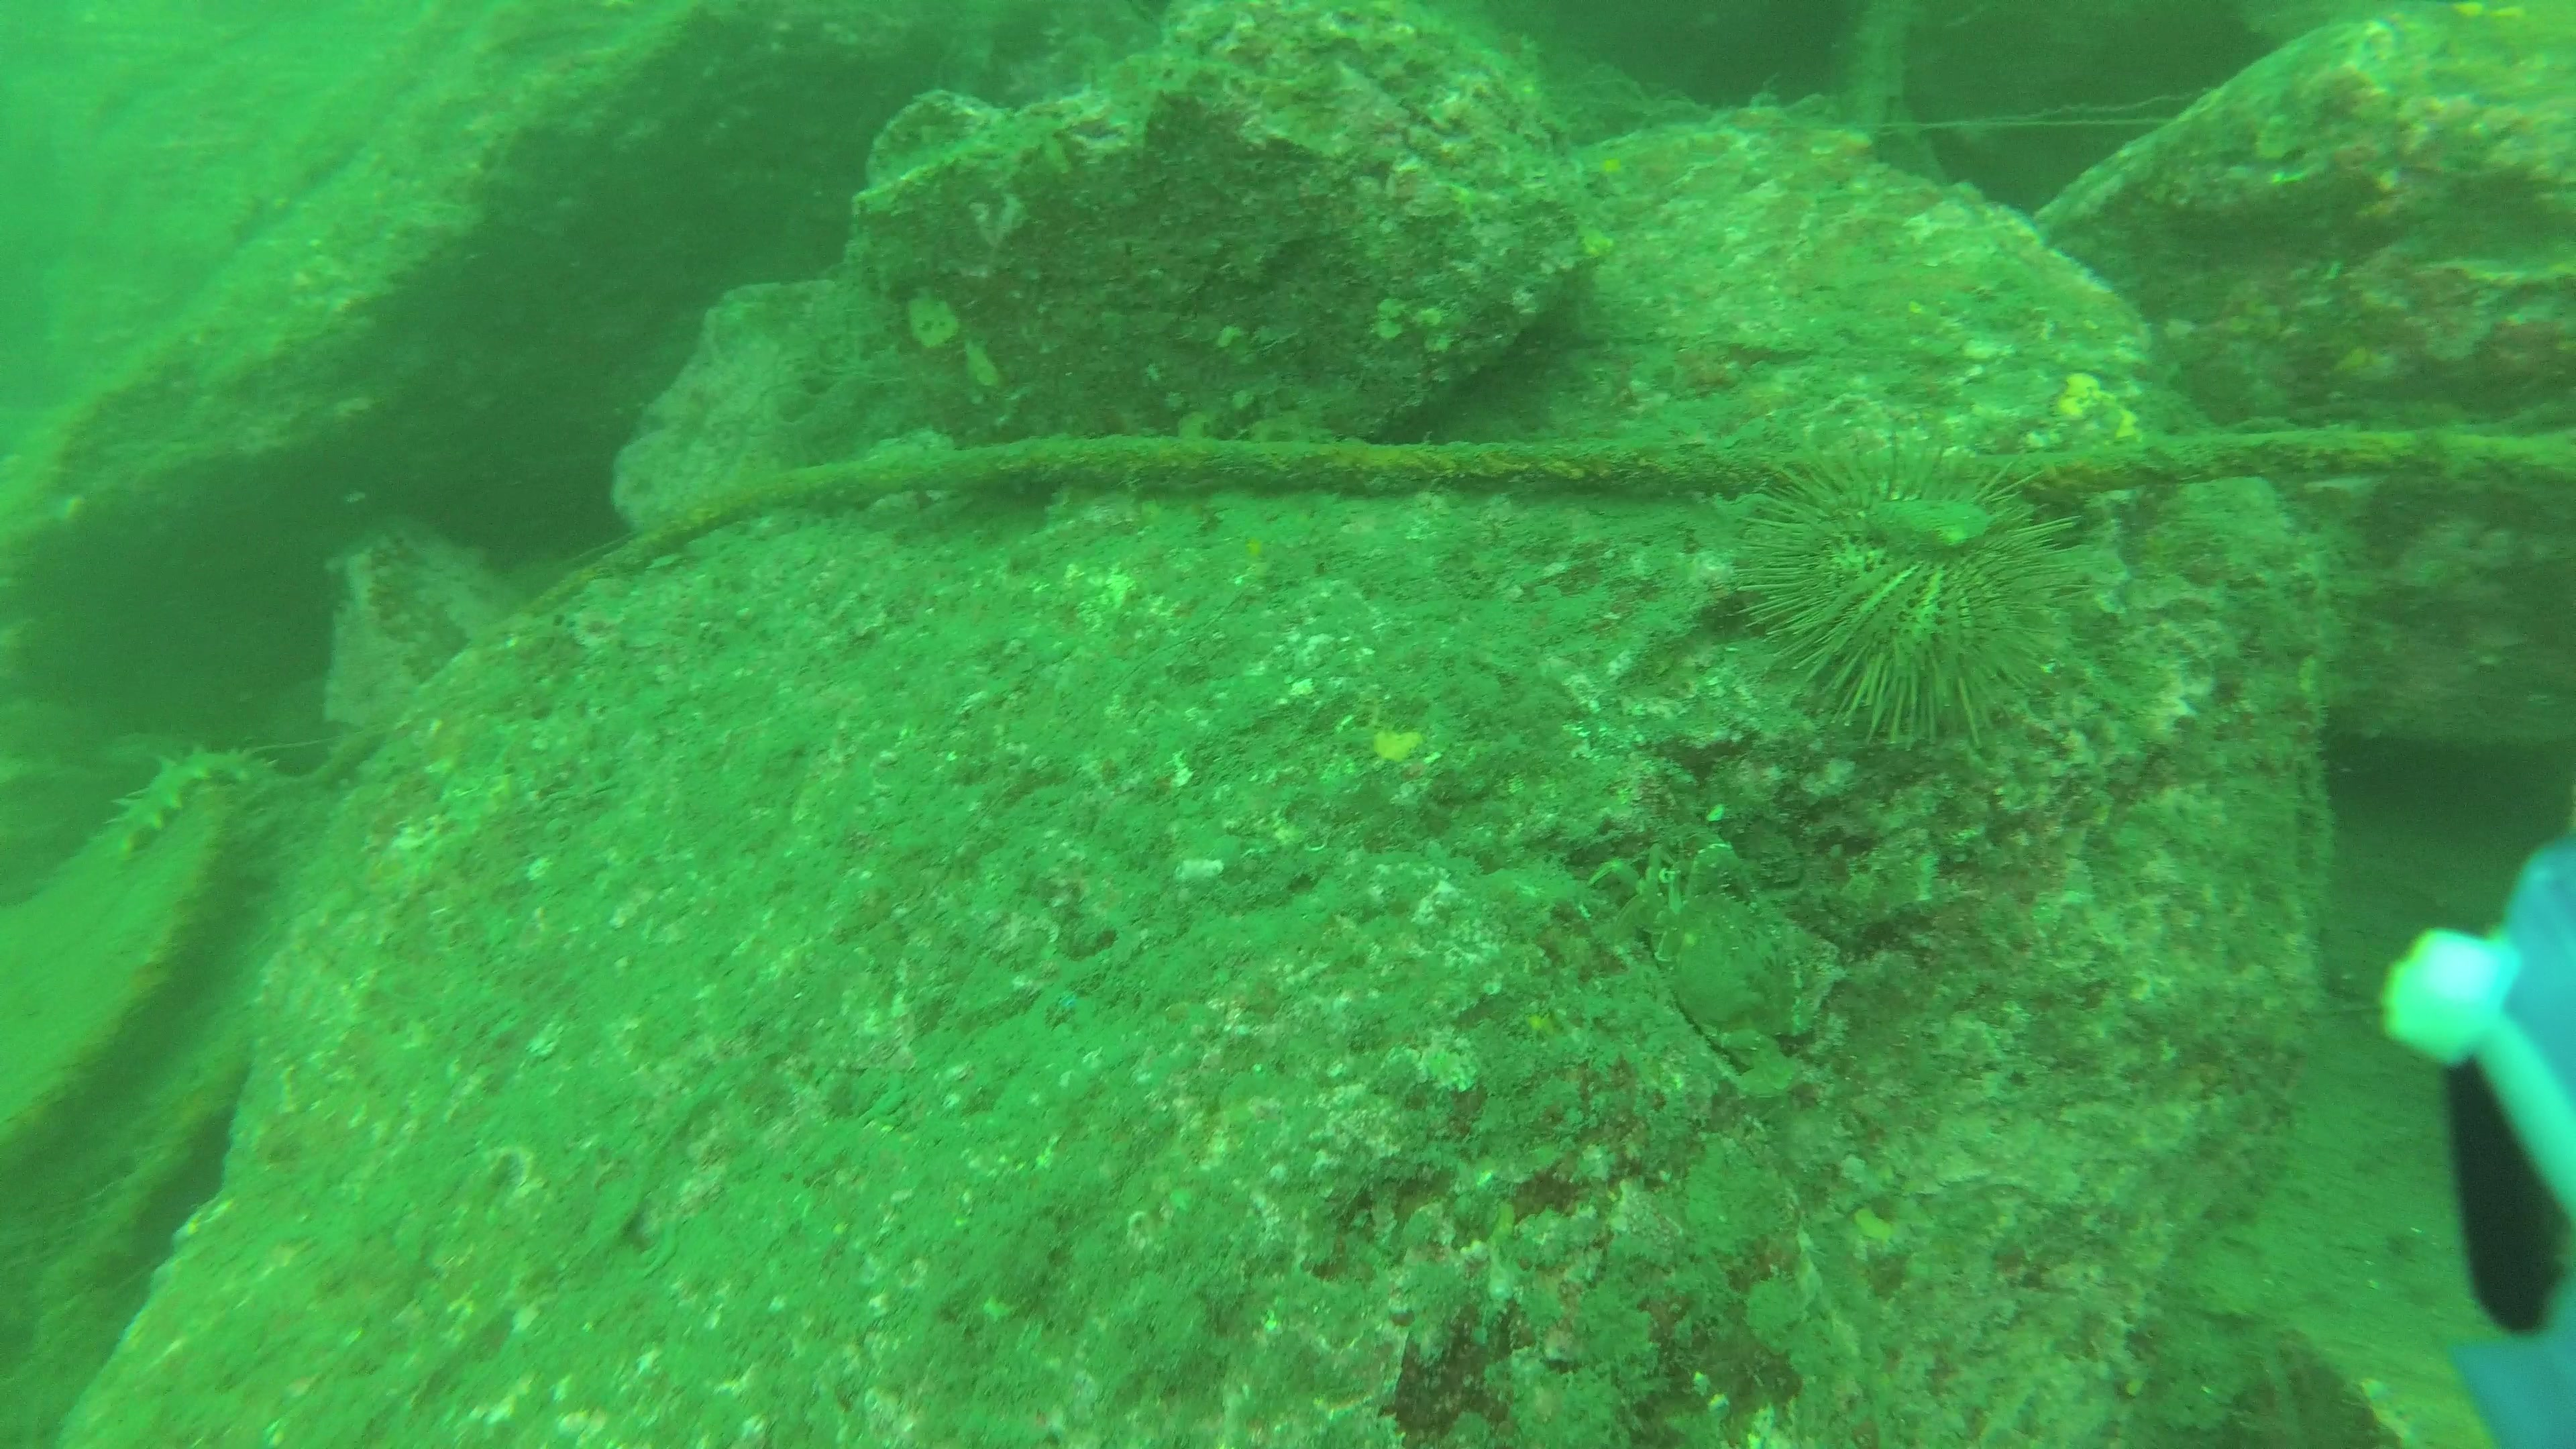echinus: (1736, 421, 2093, 750)
holothurian: (101, 741, 283, 870)
